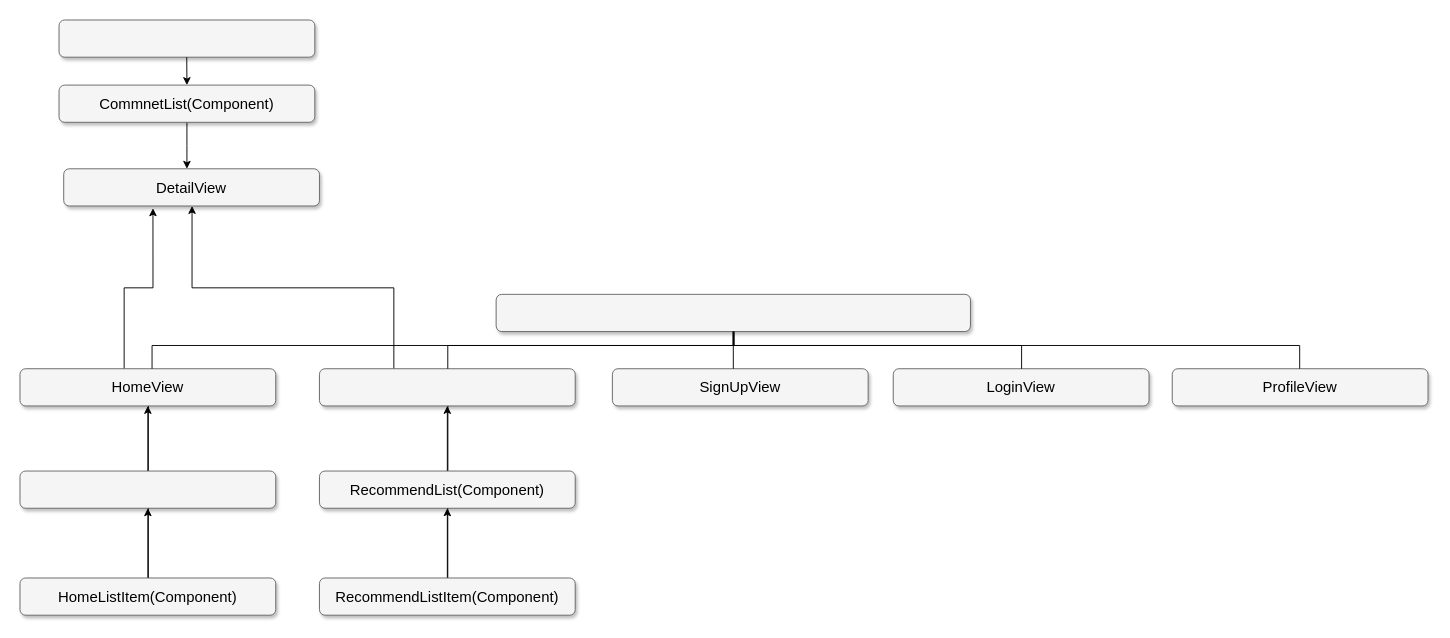
This 1450x638 diagram has some shape labels left out. The shapes that lost their labels are listed below. From the top down, each one's centre as x and y in pixels, then its label:
the point at 187,39: CommnetListItem(Component)
the point at 734,314: App.vue
the point at 448,388: RecommendView
the point at 148,490: HomeList(Component)
